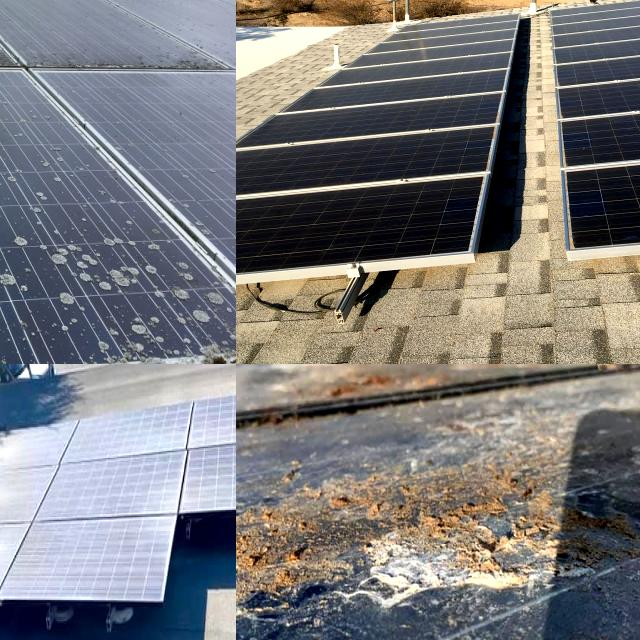bird: (329, 462, 567, 592), (236, 461, 320, 606), (46, 214, 162, 306), (169, 240, 229, 348), (583, 467, 640, 580), (0, 141, 37, 243), (84, 315, 155, 363), (0, 306, 56, 364), (0, 269, 34, 364), (0, 252, 35, 339), (0, 150, 40, 226), (11, 214, 38, 266), (0, 153, 19, 211), (0, 68, 20, 111)
dust: (265, 186, 441, 260), (310, 86, 434, 178), (30, 524, 162, 596), (64, 464, 170, 508), (76, 416, 185, 449), (0, 531, 39, 587), (608, 161, 640, 225), (201, 394, 236, 445), (0, 476, 35, 521), (0, 434, 56, 461), (0, 556, 30, 582)
